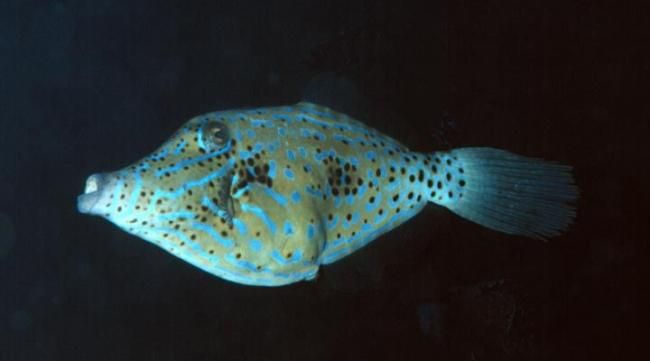fish: (78, 100, 582, 285)
